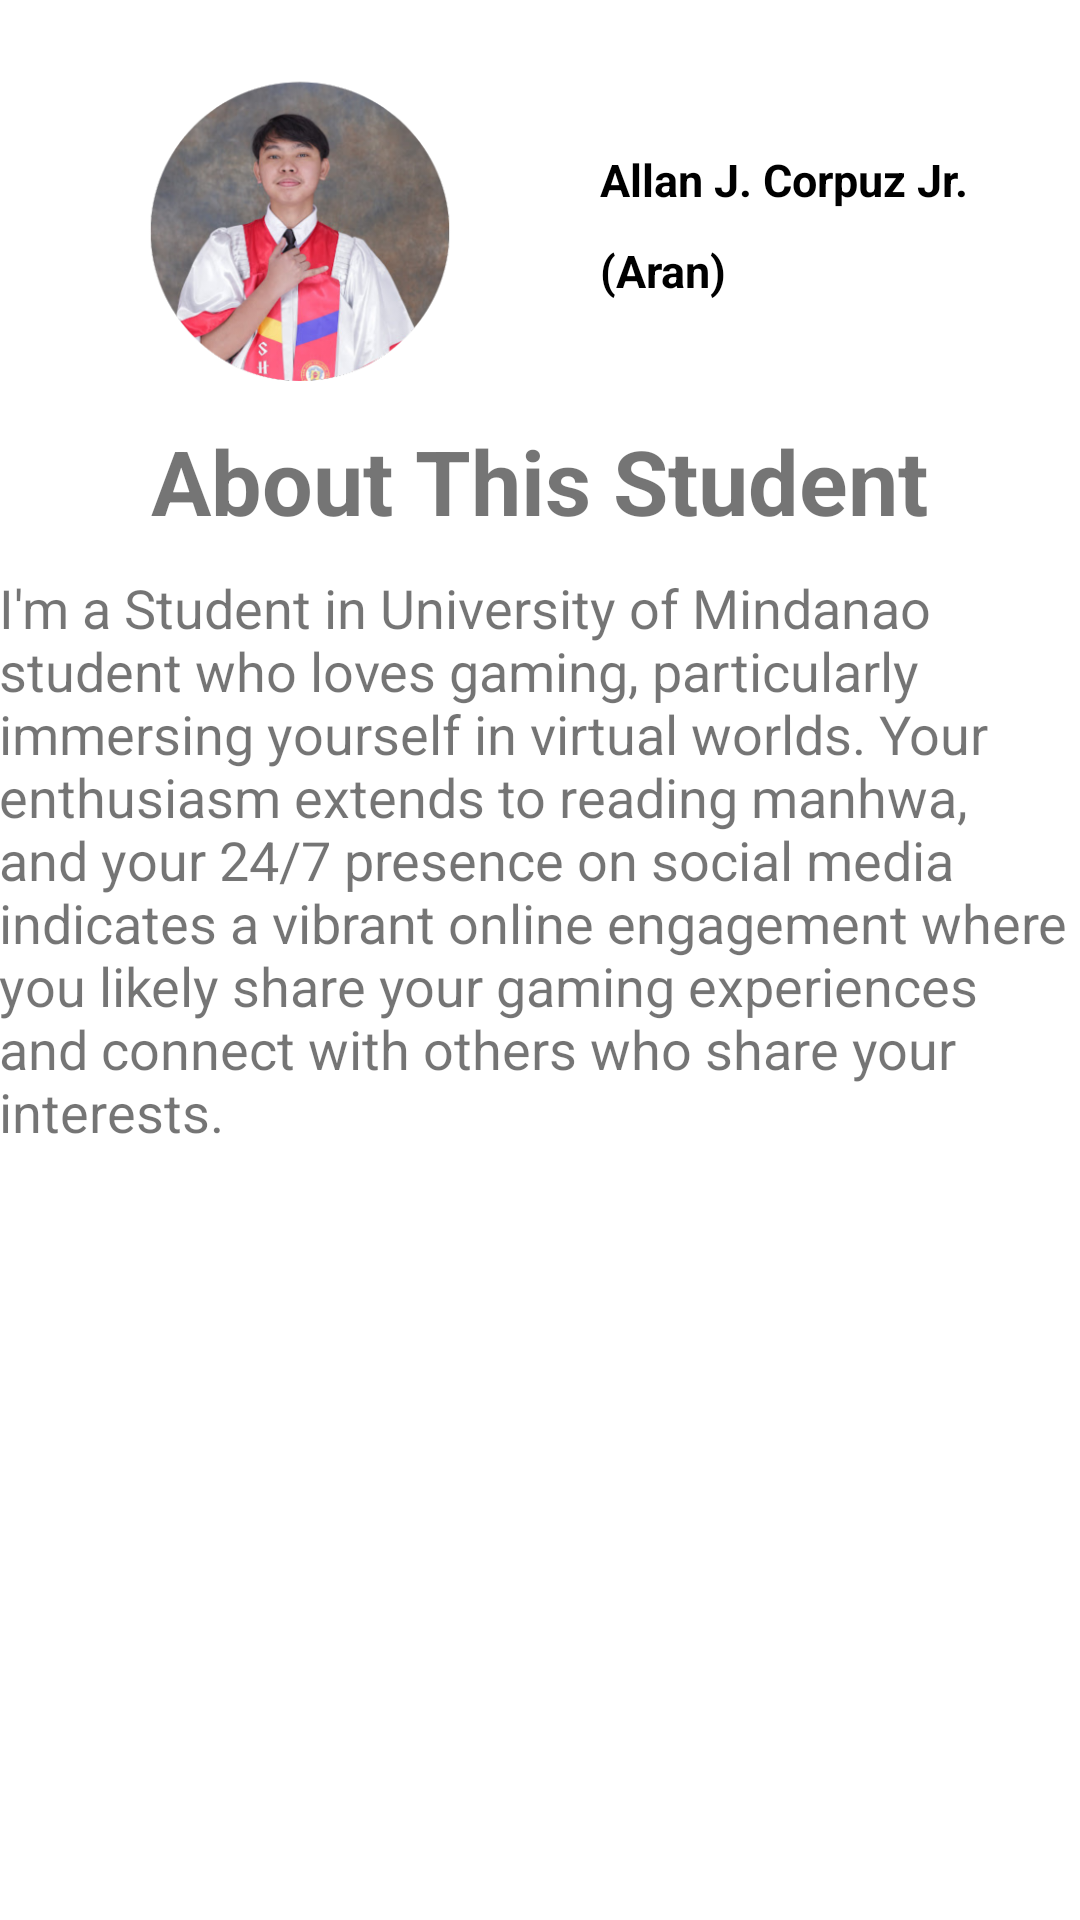

Named icons in this screenshot (1080w x 1920h) and their centers, point (x, y):
myself: point (300, 231)
